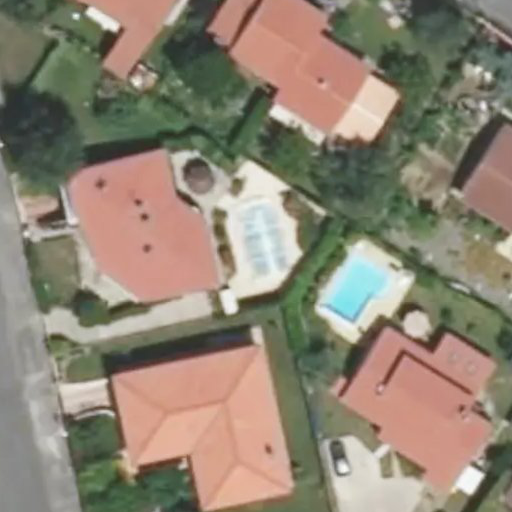pool: (229, 210, 282, 273)
